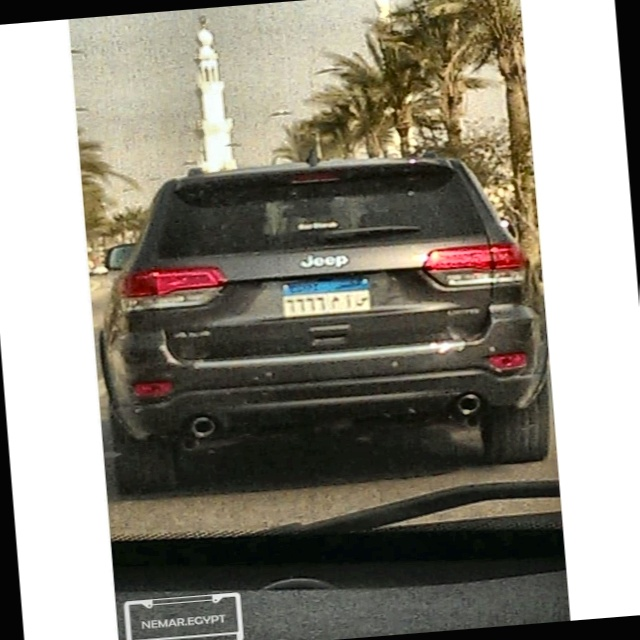License Plate: (276, 273, 377, 321)
